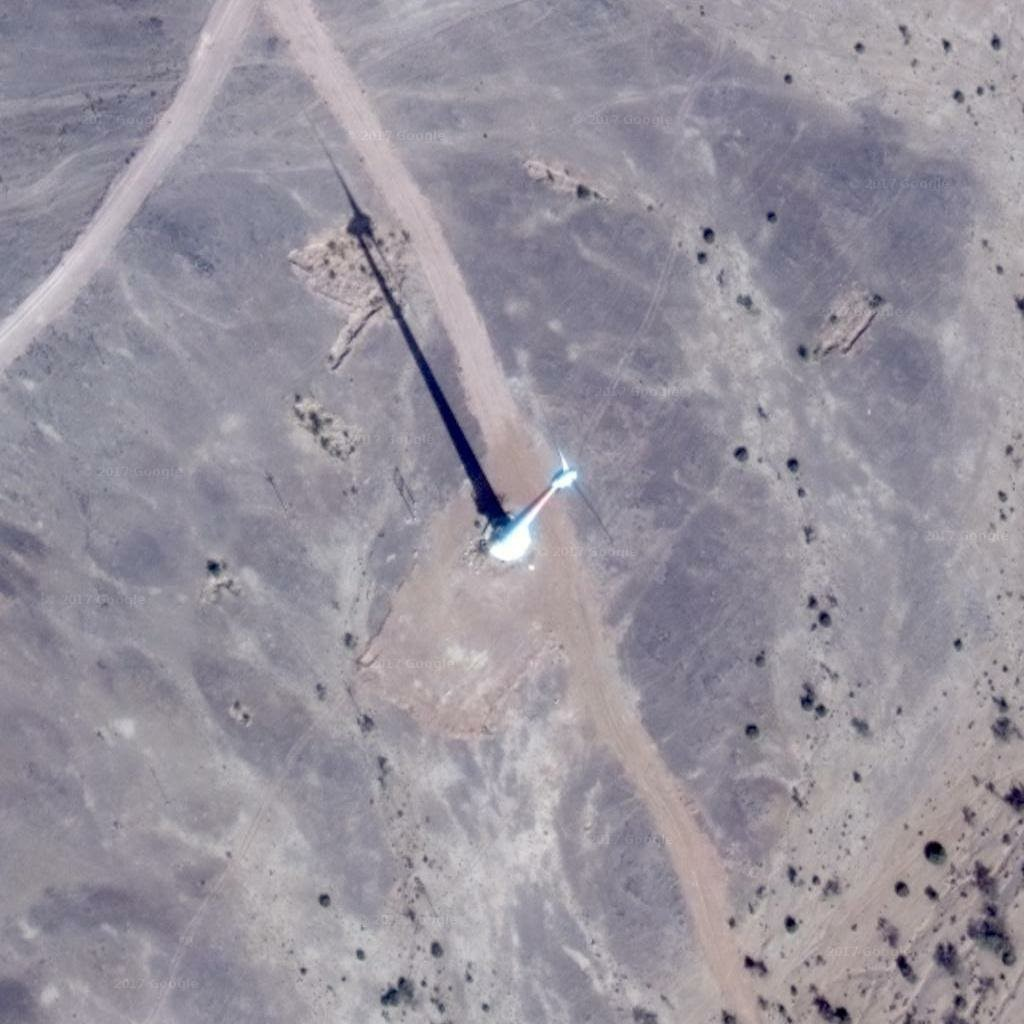Windmill: (314, 147, 520, 523)
